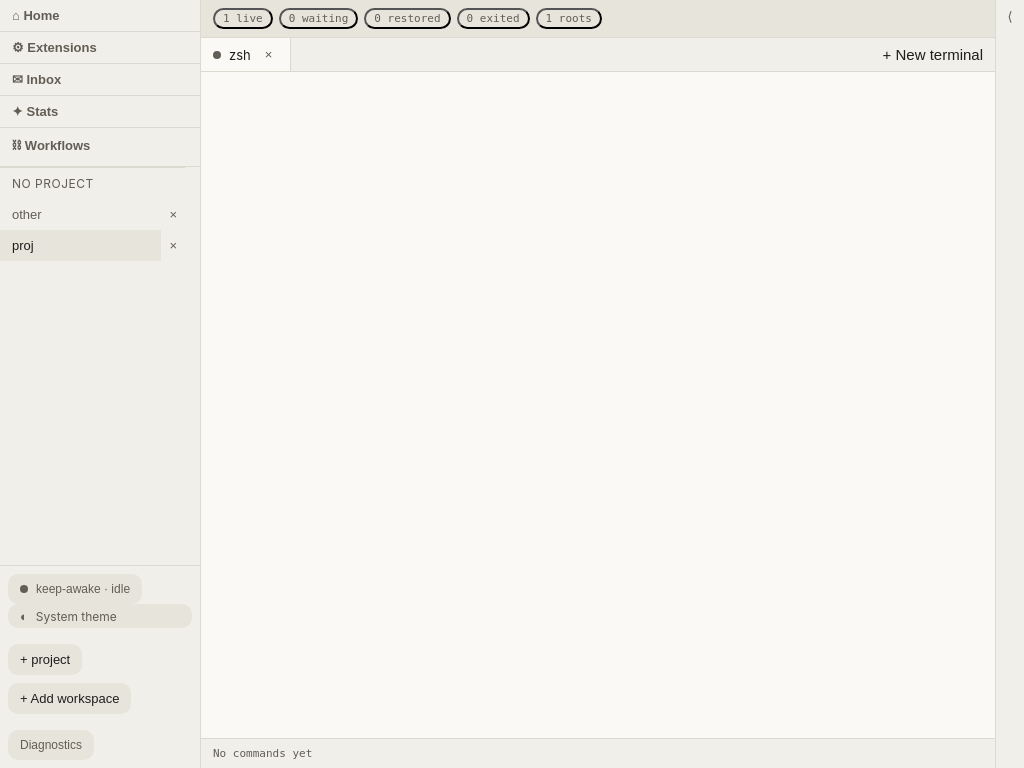
Test case: workspace://removed (SCN-058) › falls back to Home when the removed workspace was the one on screen
Click the button "proj".
click(81, 246)  # box [0,230,161,261]
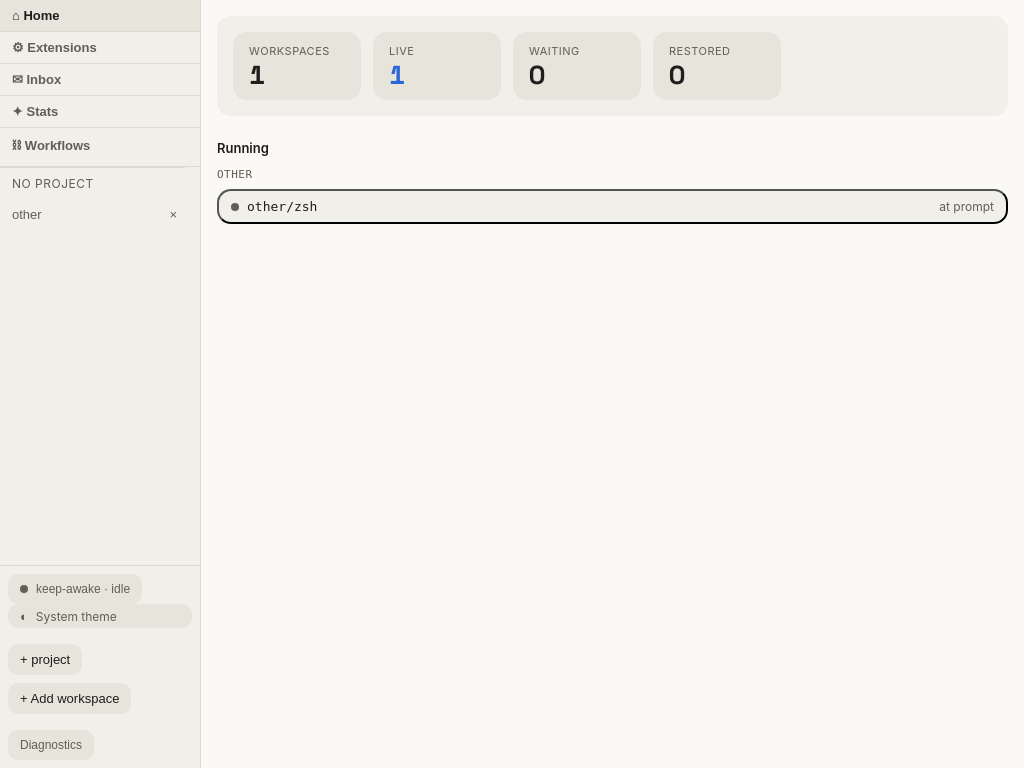
Now the element with test id "workspace-stats" is gone
